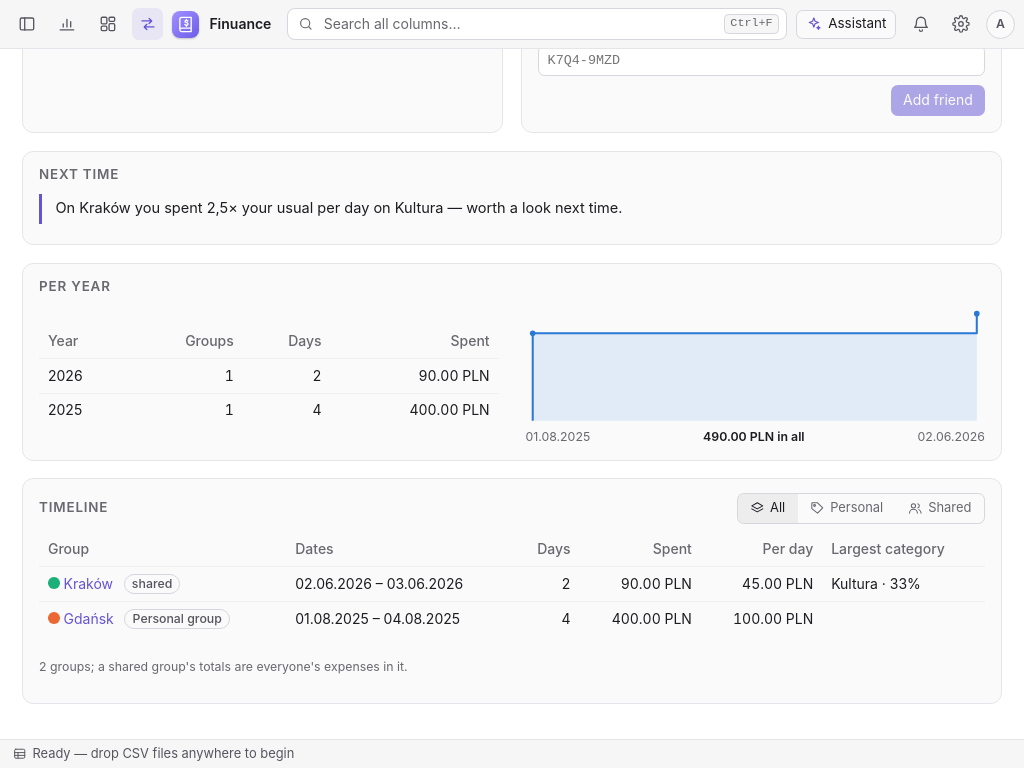
Scenario: the Shared tab › lists the timeline with years and hints, and opens a shared group
(page scrolled)
expect the button "Gdańsk" is shown: met, box x1=64 y1=609 x2=114 y2=629
expect the list item "2,5× your usual per day on Kultura" is shown: met, box x1=56 y1=199 x2=622 y2=217
Click the button "Kraków". click: point(88, 584)
box: x1=64 y1=574 x2=113 y2=594
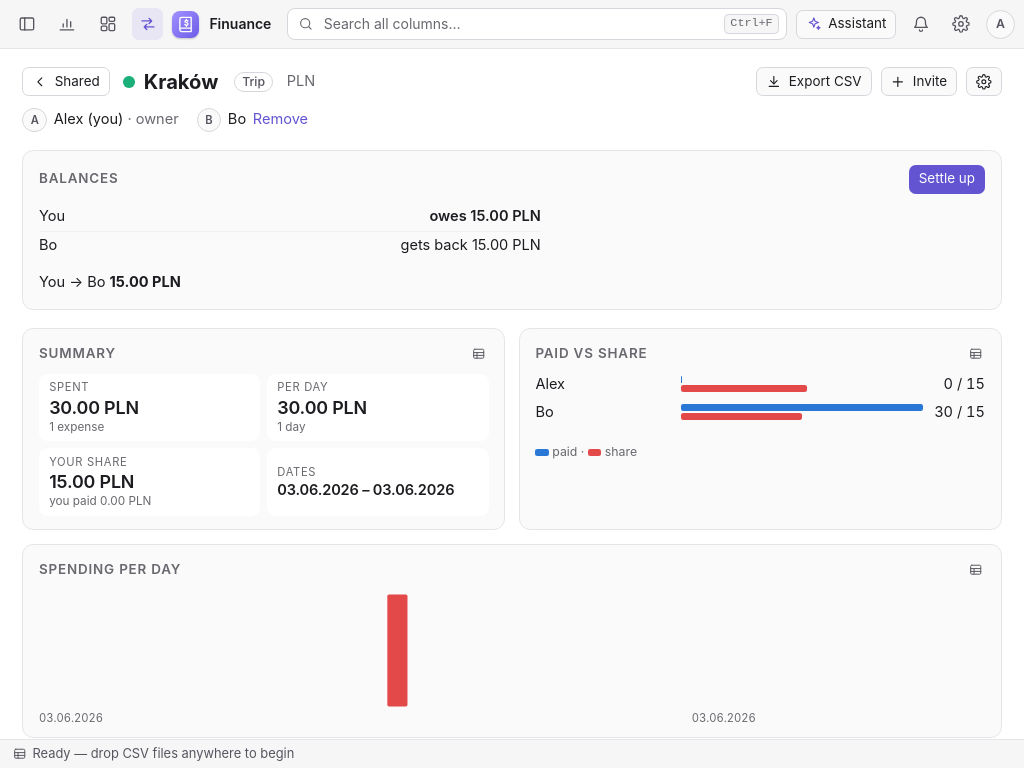
expect the element "Balances" is shown: met, box x1=22 y1=150 x2=1002 y2=310
